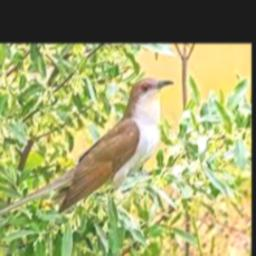Cuckoo: (0, 77, 176, 229)
